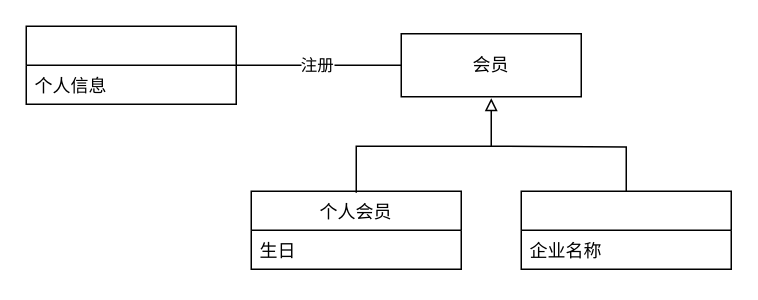
The diagram is 758 pixels wide and 300 high, and some of its shapes have lost their labels. Here are the shapes that lost their labels. From the top down, the box of each, then its label:
(25, 25, 236, 104): 用户
(520, 190, 731, 269): 企业会员
